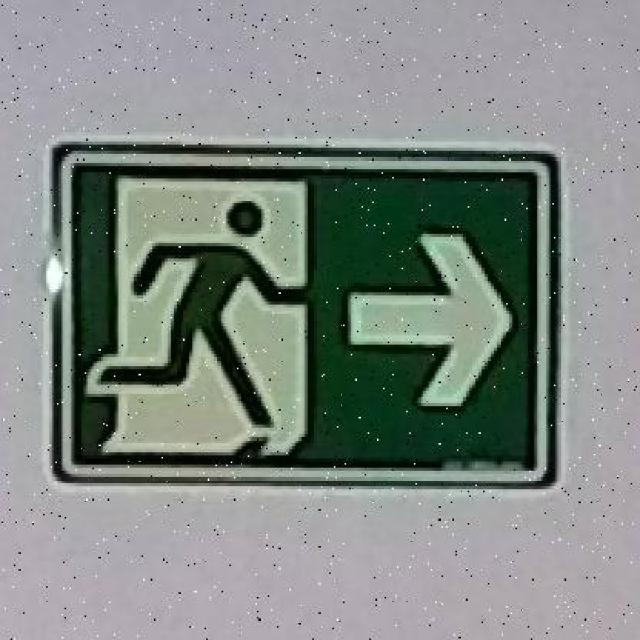emergency_exit: (50, 142, 559, 487)
